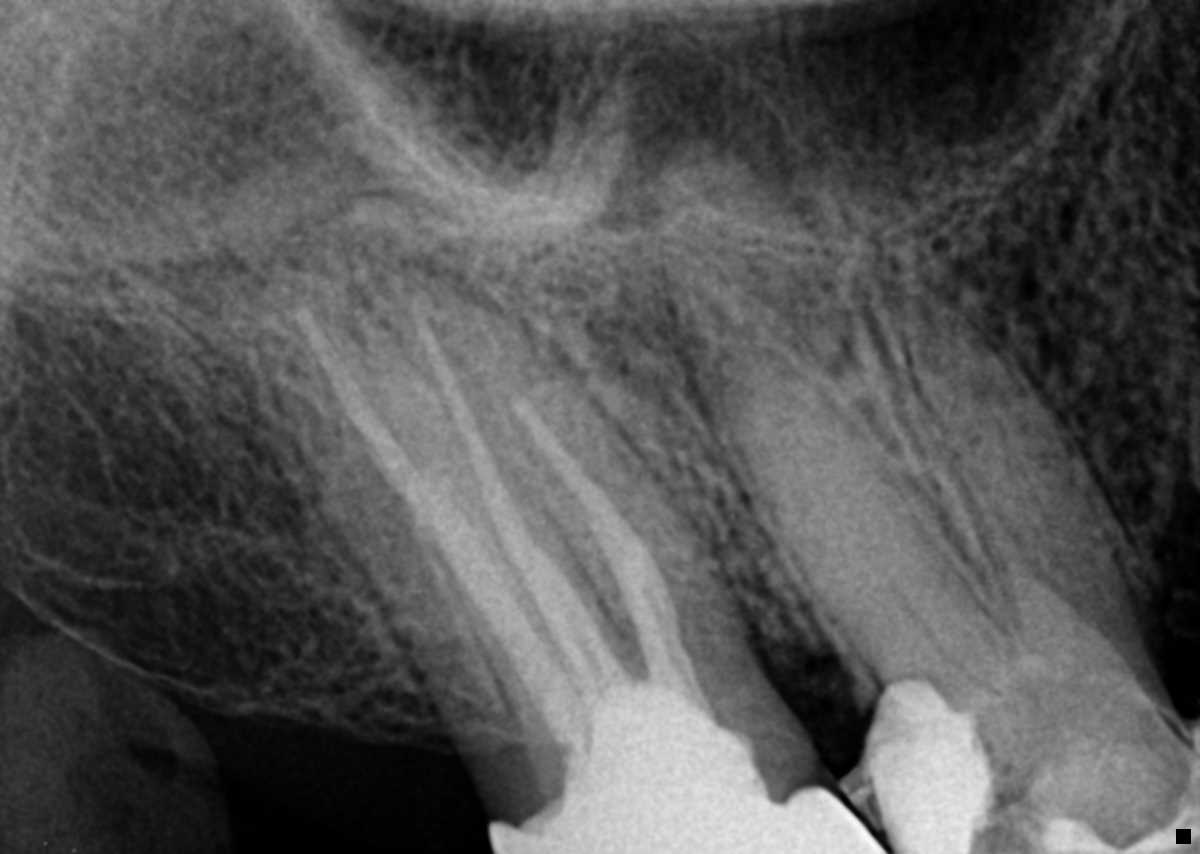Apical Lesion: (605, 38, 786, 229), (322, 200, 503, 345)
Distal Root: (254, 269, 593, 739), (714, 351, 990, 681)
Mesial Root: (888, 283, 1160, 636), (512, 374, 741, 651)
Palatal Root: (653, 130, 1074, 655), (372, 270, 735, 722)
Root Canal Filling: (295, 305, 537, 664), (414, 305, 631, 705), (515, 402, 681, 649)
